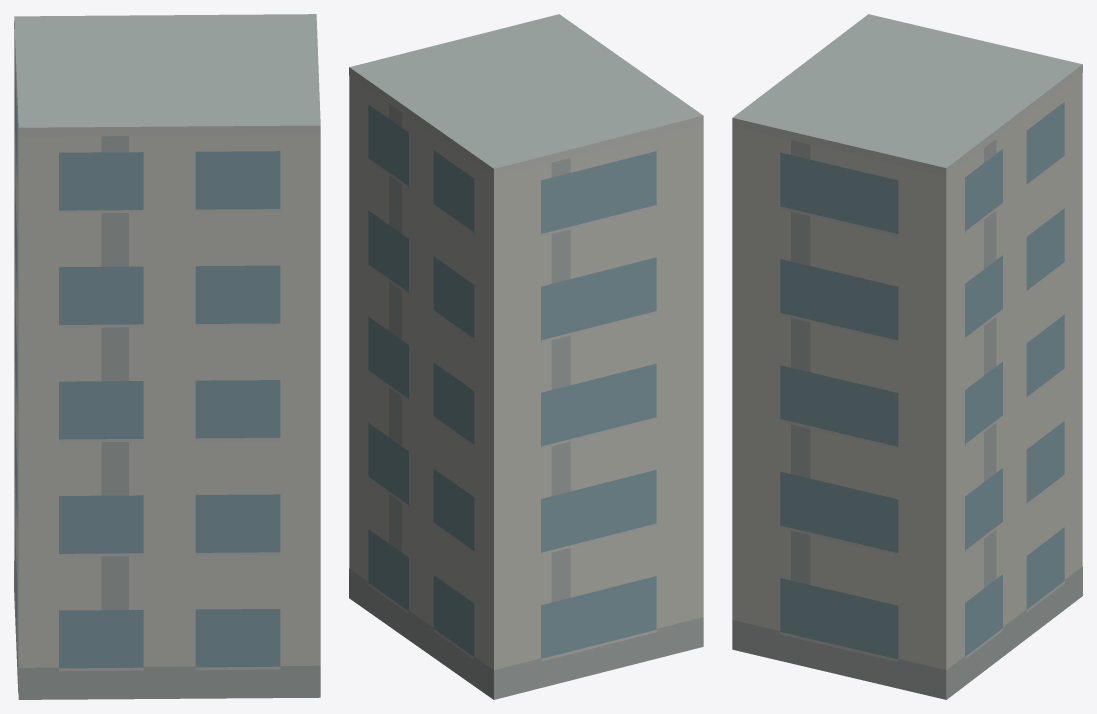
Rendered from residential-5ae55a6d-d4cf-4484-8d9c-cfb91fa7b5e5.glb.
3 renders of one model, left to right at view 1: azimuth 30°, elevation 25°; view 2: azimuth 150°, elevation 25°; view 3: azimuth 270°, elevation 25°, orthographic. The views are drawn at different scales.
Visible parts, largest first — view 1: residential-5ae55a6d-d4cf-4484-8d9c-cfb91fa7b5e5.tmp; view 2: residential-5ae55a6d-d4cf-4484-8d9c-cfb91fa7b5e5.tmp; view 3: residential-5ae55a6d-d4cf-4484-8d9c-cfb91fa7b5e5.tmp.
Part boxes in pixels (x1,y1,x2,y2): residential-5ae55a6d-d4cf-4484-8d9c-cfb91fa7b5e5.tmp: (14,14,320,699); residential-5ae55a6d-d4cf-4484-8d9c-cfb91fa7b5e5.tmp: (349,14,703,699); residential-5ae55a6d-d4cf-4484-8d9c-cfb91fa7b5e5.tmp: (732,14,1082,699).
Bounding box in the file's own units: 9.49 × 15.25 × 9.12.
